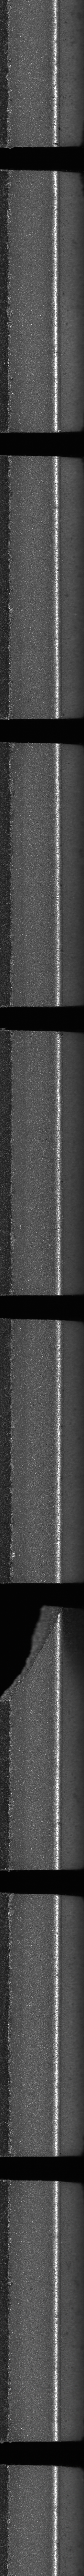Chip: (0, 1600, 66, 1710)
